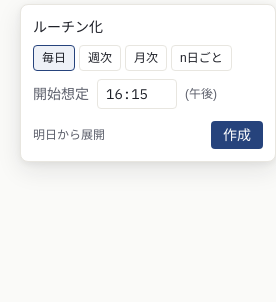
RoutinizePopover（画面定義書01 §4.1 / O-12: 最小の入力でタスクからルーチンを作る） › 週次を選ぶと曜日・プリセット・週間隔が出て、元タスクの曜日が既定で選ばれる
This screenshot has width=276, height=302.
Click the button "週次": [100, 58] box [79,45,121,71]
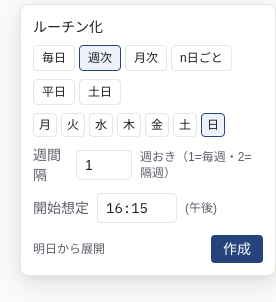
Expected: the button "平日" is shown, [33,79,75,105]
Expected: the button "土日" is shown, [79,79,121,105]
Expected: the text "週おき（1=毎週・2=隔週）" is shown, [140,149,263,181]
